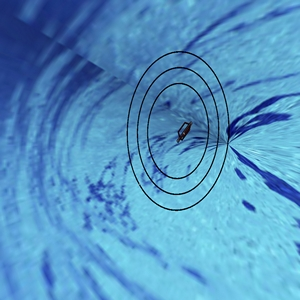circle: (118, 39, 239, 219)
submarine: (173, 111, 196, 151)
